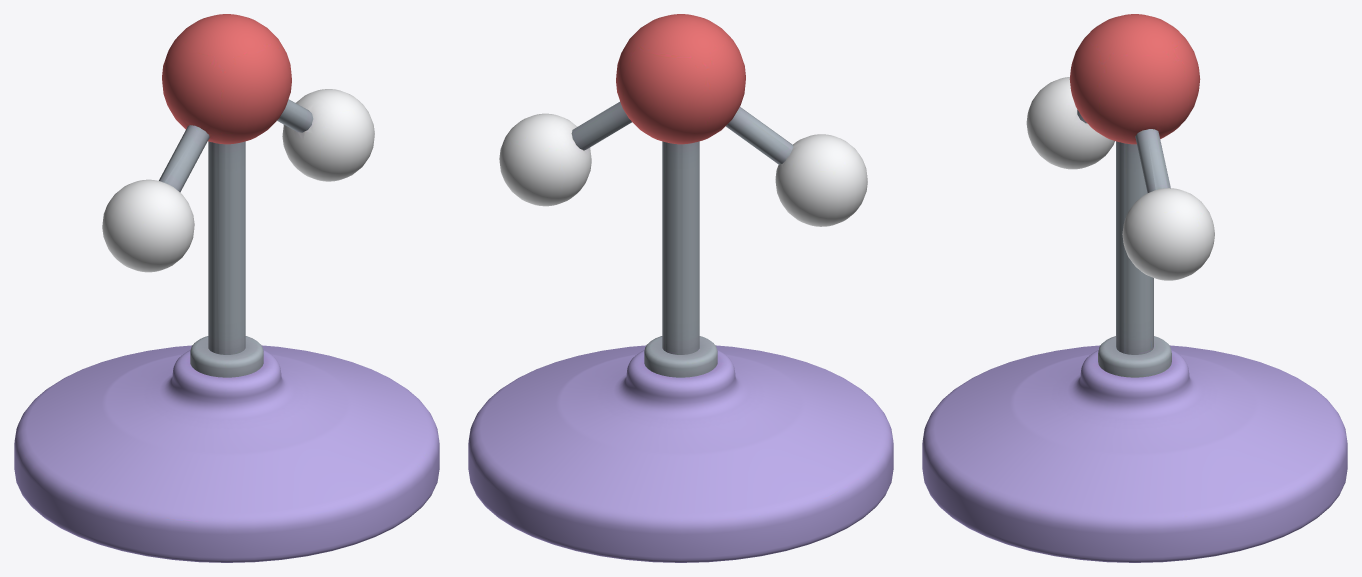
The model's file is water-molecule.glb.
The picture shows the model from 3 angles, left to right: view 1: azimuth 30°, elevation 25°; view 2: azimuth 150°, elevation 25°; view 3: azimuth 270°, elevation 25°; orthographic projection.
Parts seen in each view (by area): view 1: water-molecule_body; view 2: water-molecule_body; view 3: water-molecule_body.
Part boxes in pixels (x1,y1,x2,y2): water-molecule_body: (14, 14, 439, 562); water-molecule_body: (468, 14, 893, 562); water-molecule_body: (922, 14, 1347, 562).
Size of the model in its own units: 0.09 by 0.1063 by 0.09.
Materials: 1 (1 with a texture image).
